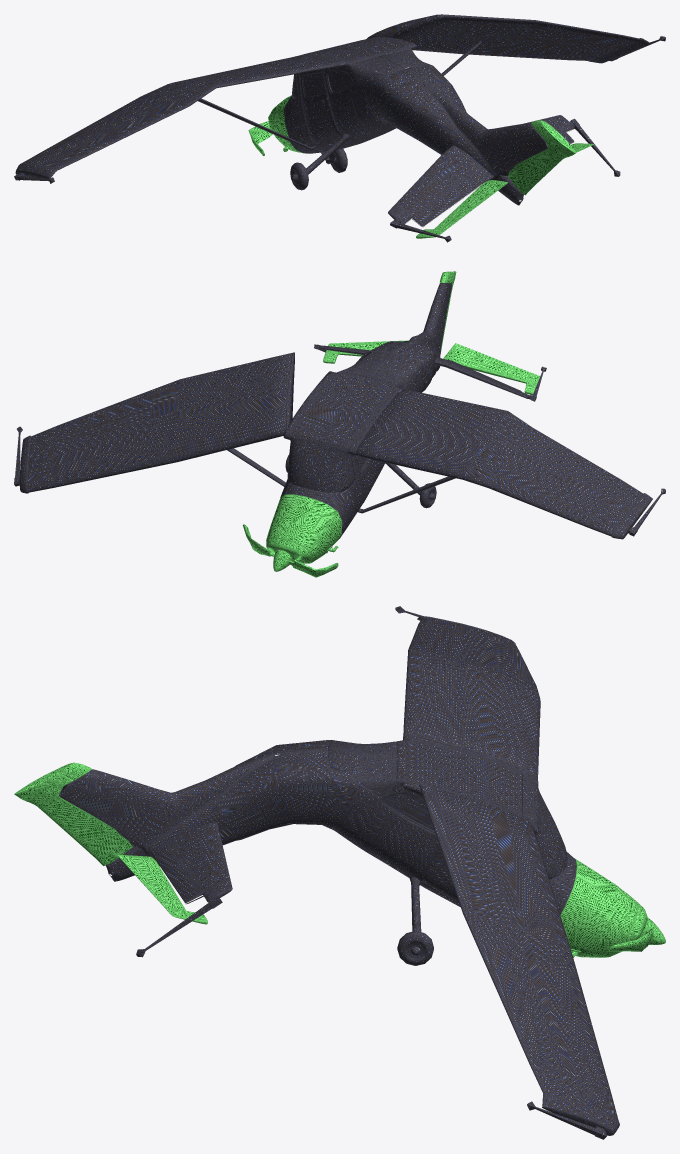
File: Neoflycrashedplane5.gltf
The picture shows the model from 3 angles, top to bottom: view 1: azimuth 30°, elevation 25°; view 2: azimuth 150°, elevation 25°; view 3: azimuth 270°, elevation 25°; orthographic projection. The views are drawn at different scales.
Parts seen in each view (by area): view 1: xtras_2, xtras_2.001, halerorvert_2, haleror_2, xtras_4, xtras_3; view 2: xtras_2, xtras_2.001, xtras_4, haleror_2, xtras_3; view 3: xtras_2, xtras_2.001, xtras_4, halerorvert_2, haleror_2, xtras_3.
Boxes of the visible parts, x1=… form: xtras_2: x1=14, y1=37, x2=620, y2=242; xtras_2.001: x1=367, y1=14, x2=665, y2=63; halerorvert_2: x1=507, y1=120, x2=575, y2=195; haleror_2: x1=416, y1=143, x2=594, y2=238; xtras_4: x1=268, y1=95, x2=307, y2=153; xtras_3: x1=248, y1=121, x2=272, y2=155; xtras_2: x1=227, y1=283, x2=665, y2=539; xtras_2.001: x1=14, y1=352, x2=294, y2=493; xtras_4: x1=266, y1=494, x2=342, y2=563; haleror_2: x1=323, y1=340, x2=540, y2=394; xtras_3: x1=242, y1=524, x2=338, y2=577; xtras_2: x1=59, y1=606, x2=576, y2=965; xtras_2.001: x1=419, y1=784, x2=619, y2=1139; xtras_4: x1=560, y1=859, x2=646, y2=957; halerorvert_2: x1=14, y1=762, x2=133, y2=865; haleror_2: x1=117, y1=854, x2=207, y2=924; xtras_3: x1=608, y1=914, x2=665, y2=951.
Bounding box in the file's own units: 12.65 × 2.97 × 8.18.
